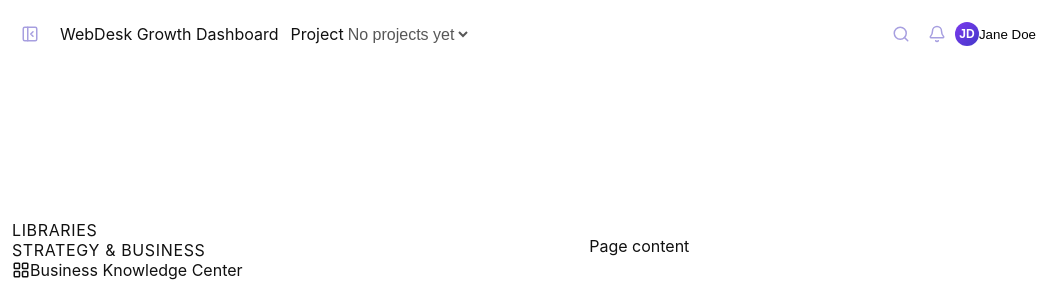
Test: AppShell › libraries group clustering › hides cluster sub-headers when the sidebar is collapsed
Click the button named "Collapse sidebar".
click(30, 34)  # box 12,16 -> 48,52
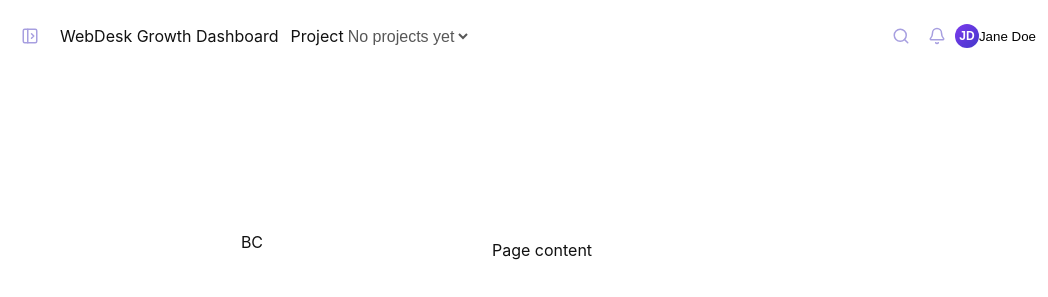
Now the text "Strategy & Business" is gone
